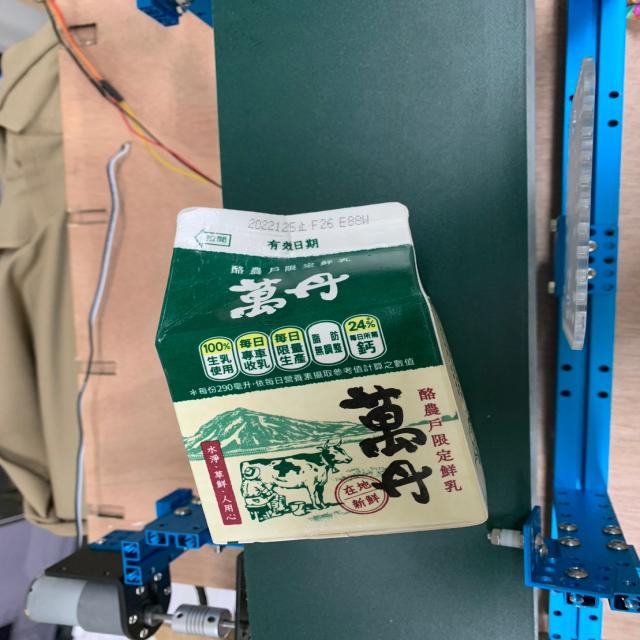non_white_jug: (136, 192, 519, 561)
